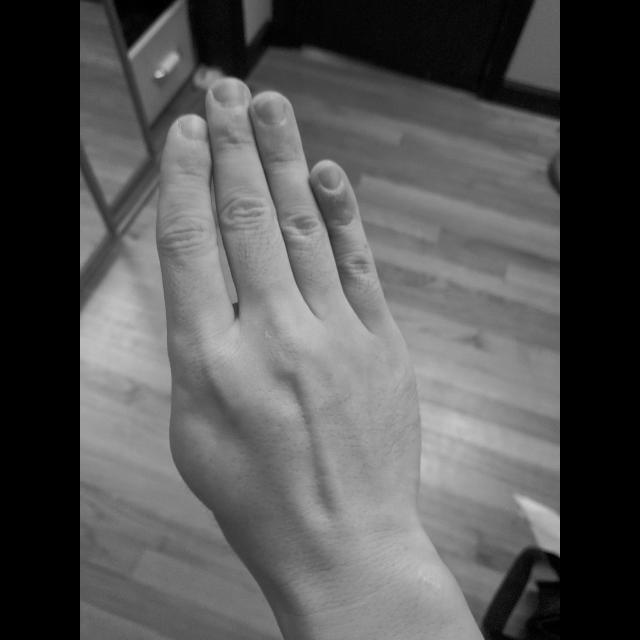B: (144, 70, 428, 600)
